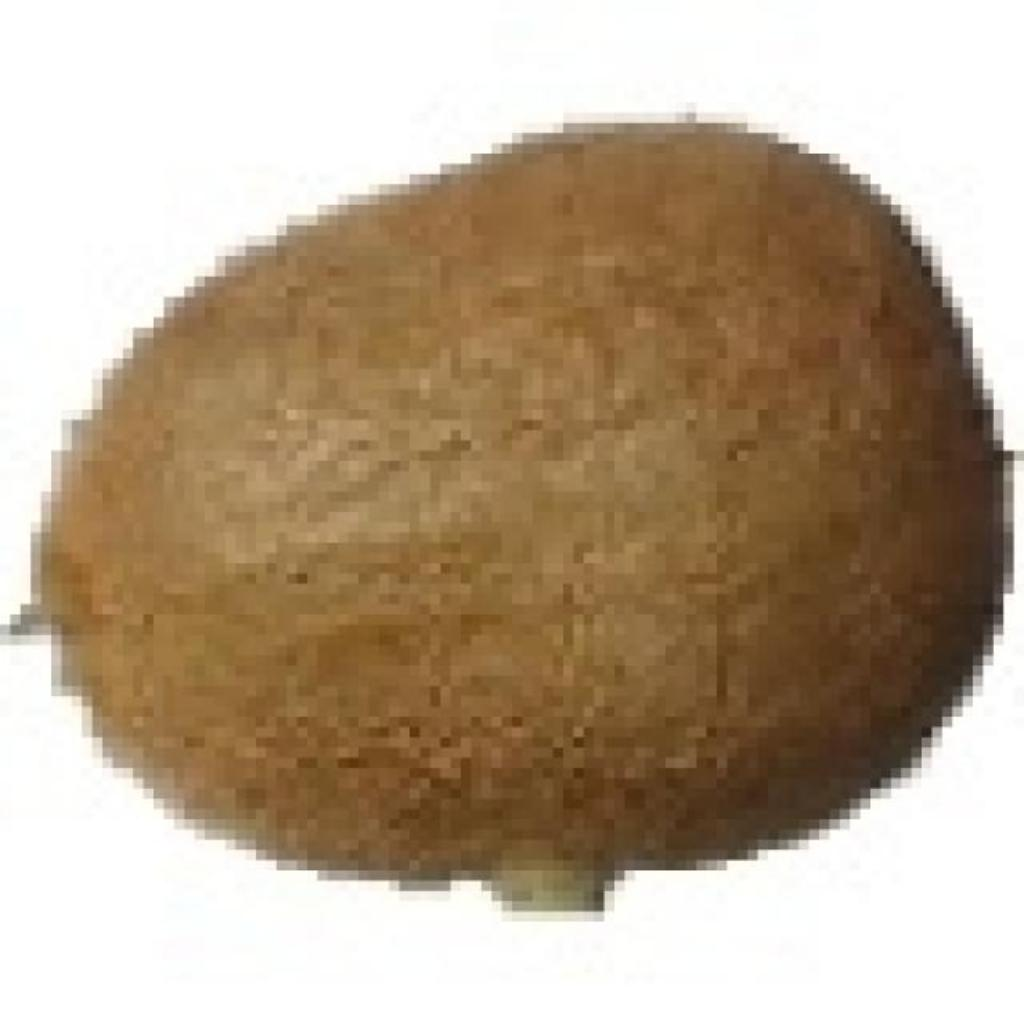kiwi: (31, 113, 983, 881)
